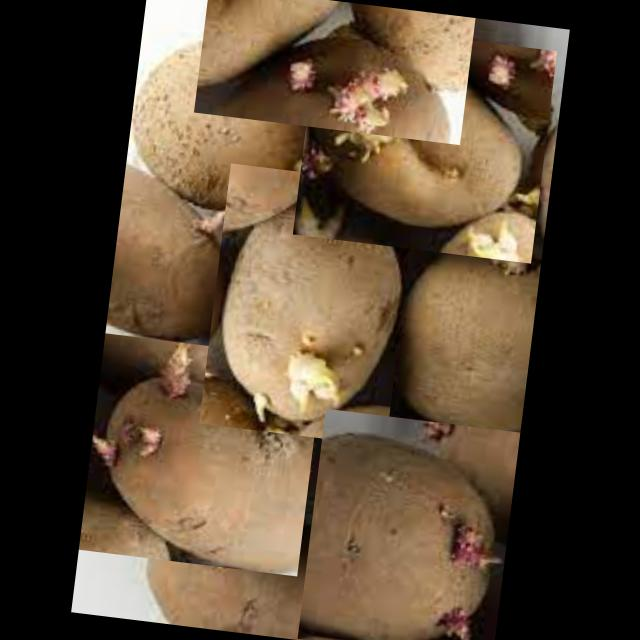Sprouted potato: (293, 21, 556, 262), (198, 162, 418, 445), (79, 332, 324, 575), (297, 407, 520, 640), (193, 0, 475, 144)
